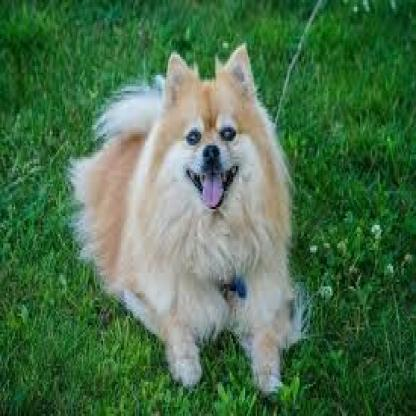Pomeranian: (57, 26, 299, 402)
